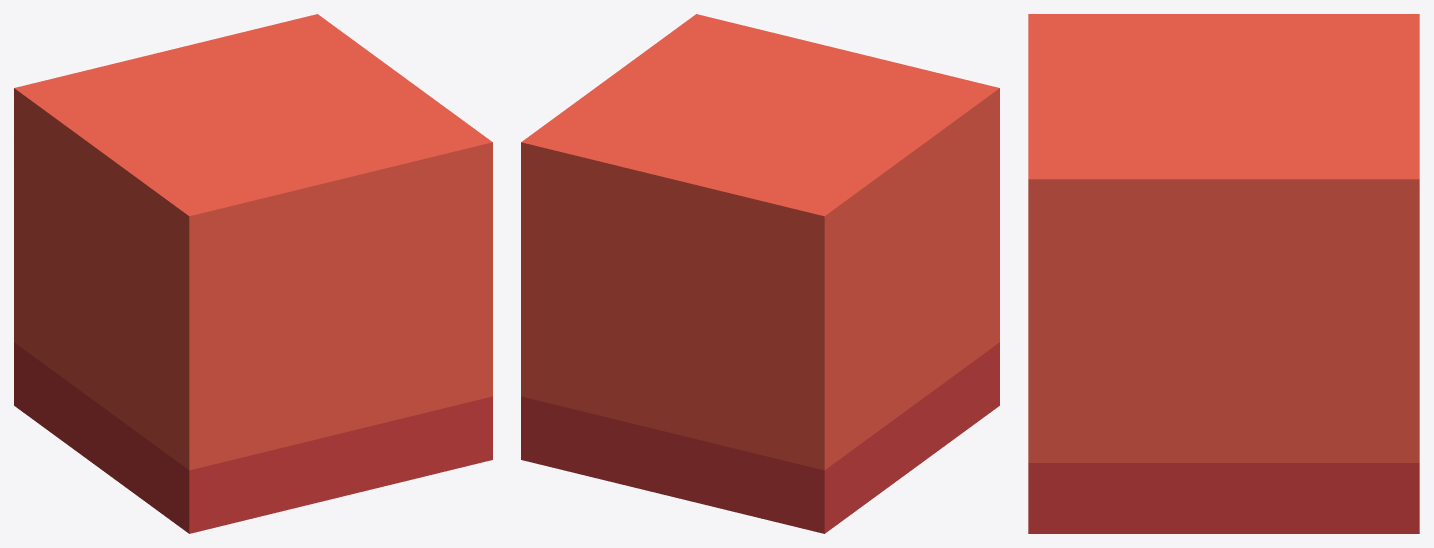
File: building_block1.obj
3 views of the same model, side by side, from view 1: azimuth 30°, elevation 25°; view 2: azimuth 150°, elevation 25°; view 3: azimuth 270°, elevation 25° (orthographic). The views are drawn at different scales.
Parts seen in each view (by area): view 1: mergedBlocks; view 2: mergedBlocks; view 3: mergedBlocks.
Part boxes in pixels (x1,y1,x2,y2): mergedBlocks: (14,14,492,533); mergedBlocks: (521,14,999,533); mergedBlocks: (1028,14,1419,533).
Size of the model in its own units: 1 by 1 by 1.
